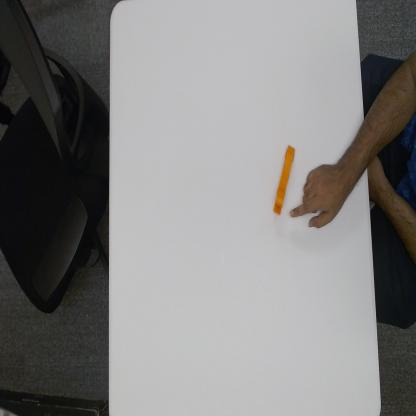Hand: (289, 156, 348, 229)
Screwdriver: (272, 143, 298, 218)
